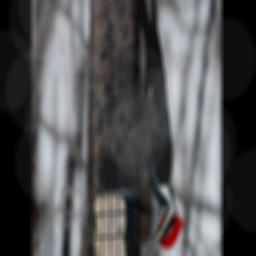Woodpecker: (121, 0, 183, 256)
